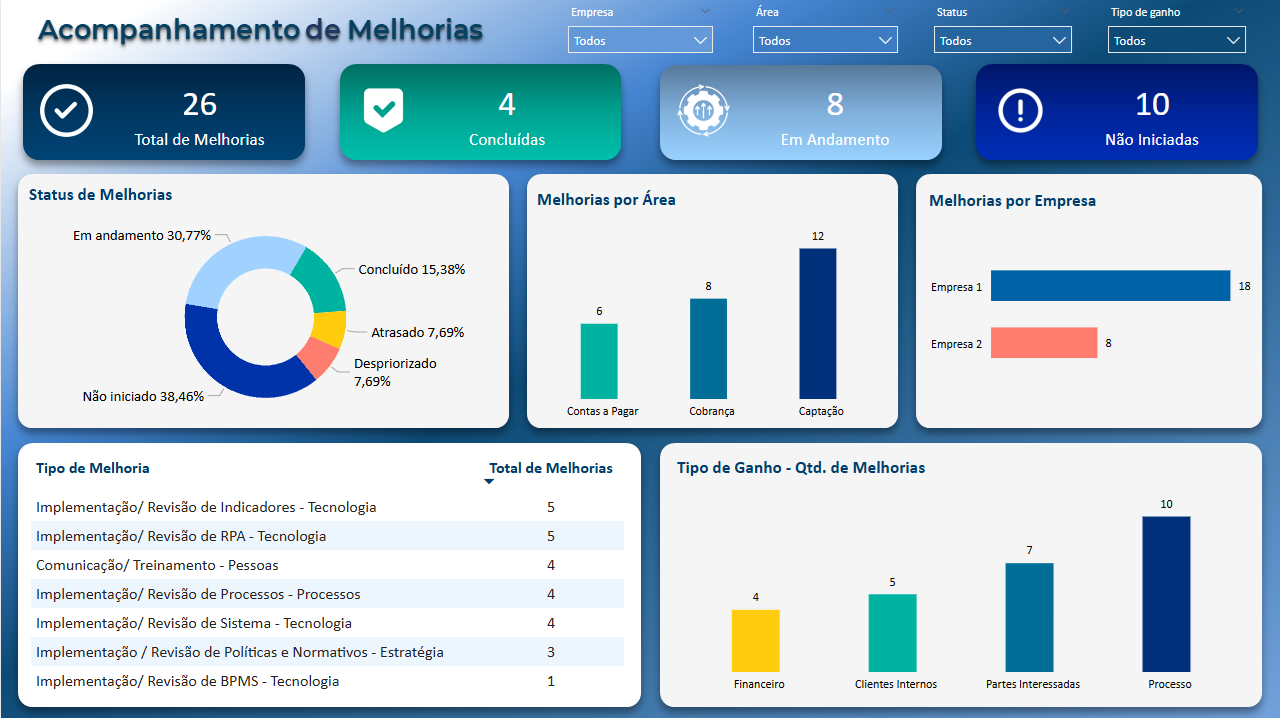

The dashboard page shown, as its layout file describes it:
{"tool":"powerbi","page":{"name":"Página 1","canvas":[1280,720],"ordinal":0},"visuals":[{"type":"card","fields":{"Values":["Medidas.Total Melhorias"]},"box":[96.4,66.4,204.5,97.3],"z":0},{"type":"card","fields":{"Values":["Medidas.Melhorias Em Andamento"]},"box":[731.1,67.8,205.6,95.6],"z":1000},{"type":"donutChart","title":"Status de Melhorias","fields":{"Category":["Base.Status"],"Y":["Medidas.Total Melhorias"]},"box":[22.7,178.2,483.6,248.2],"z":2000},{"type":"slicer","fields":{"Values":["Base.Empresa"]},"box":[557.3,4.5,164.5,49.1],"z":3000},{"type":"slicer","fields":{"Values":["Base.Área"]},"box":[741.8,4.5,165.5,49.1],"z":4000},{"type":"slicer","fields":{"Values":["Base.Status"]},"box":[922.7,4.5,158.2,49.1],"z":5000},{"type":"slicer","fields":{"Values":["Base.Tipo de ganho"]},"box":[1097.3,4.5,158.2,49.1],"z":6000},{"type":"clusteredColumnChart","title":"Tipo de Ganho - Qtd. de Melhorias","fields":{"Category":["Base.Tipo de ganho"],"Y":["Medidas.Total Melhorias"]},"box":[670.9,455.9,584.9,244.5],"z":7000},{"type":"card","fields":{"Values":["Medidas.Melhorias Não Iniciadas"]},"box":[1047.8,66.7,206.7,96.7],"z":8000},{"type":"card","fields":{"Values":["Medidas.Melhorias Concluídas"]},"box":[396.4,66.4,220,97.3],"z":9000},{"type":"tableEx","fields":{"Values":["Base.Tipo de Melhoria","Medidas.Ranking do Produto"]},"box":[22.7,448.2,623.6,260],"z":10000},{"type":"clusteredBarChart","title":"Melhorias por Empresa","fields":{"Category":["Base.Empresa"],"Y":["Medidas.Total Melhorias"]},"box":[923.1,184.4,331.6,228.8],"z":11000},{"type":"clusteredColumnChart","title":"Melhorias por Área","fields":{"Category":["Base.Área"],"Y":["Medidas.Total Melhorias"]},"box":[531.1,182.7,360,239.4],"z":12000}]}

Visuals, with their boxes in screenshot pixels (x1, y1, x2, y2), scaled from the page's 1280x720 canvas onto the 1280x718 screenshot:
card - Medidas.Total Melhorias: 96:66:301:163
card - Medidas.Melhorias Em Andamento: 731:68:937:163
"Status de Melhorias" donutChart: 23:178:506:425
slicer - Base.Empresa: 557:4:722:53
slicer - Base.Área: 742:4:907:53
slicer - Base.Status: 923:4:1081:53
slicer - Base.Tipo de ganho: 1097:4:1256:53
"Tipo de Ganho - Qtd. de Melhorias" clusteredColumnChart: 671:455:1256:698
card - Medidas.Melhorias Não Iniciadas: 1048:67:1254:163
card - Medidas.Melhorias Concluídas: 396:66:616:163
tableEx - Base.Tipo de Melhoria x Medidas.Ranking do Produto: 23:447:646:706
"Melhorias por Empresa" clusteredBarChart: 923:184:1255:412
"Melhorias por Área" clusteredColumnChart: 531:182:891:421
